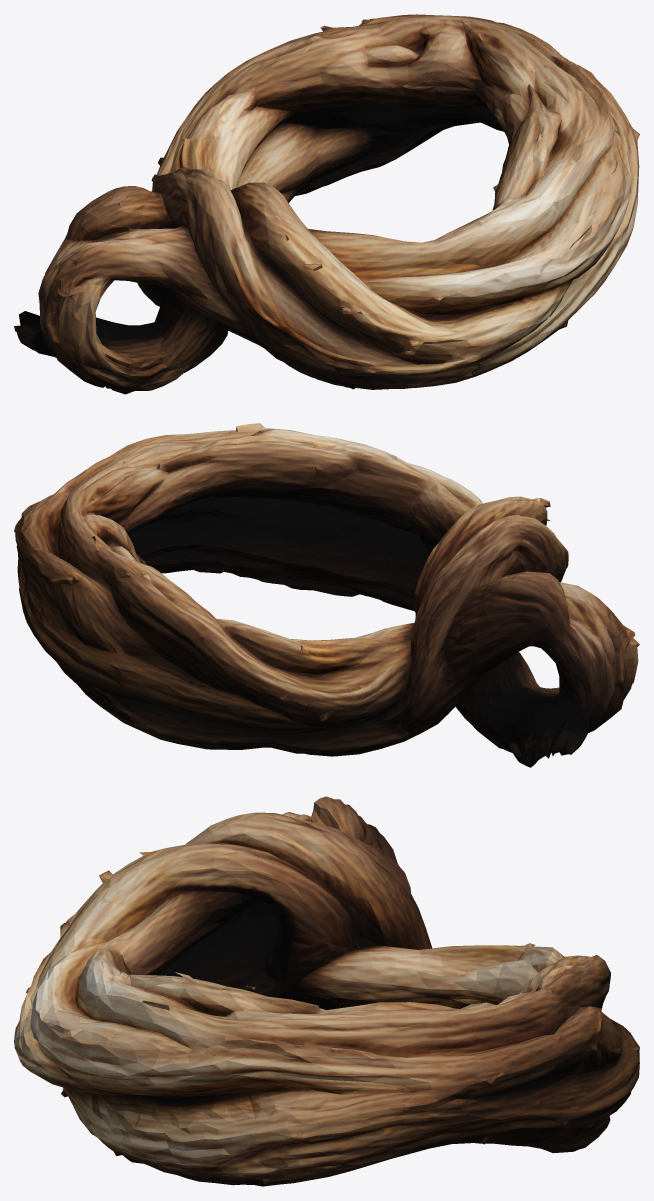
The model's file is coconut-fiber-rope-new-style.jpeg.glb.
3 renders of one model, top to bottom at view 1: azimuth 30°, elevation 25°; view 2: azimuth 150°, elevation 25°; view 3: azimuth 270°, elevation 25°, orthographic. The views are drawn at different scales.
Parts seen in each view (by area): view 1: world; view 2: world; view 3: world.
Part boxes in pixels (x1,y1,x2,y2): world: (14,14,639,394); world: (14,423,639,767); world: (14,796,639,1186).
Bounding box in the file's own units: 1 × 0.339 × 0.8281.
1 material, 1 textured.
